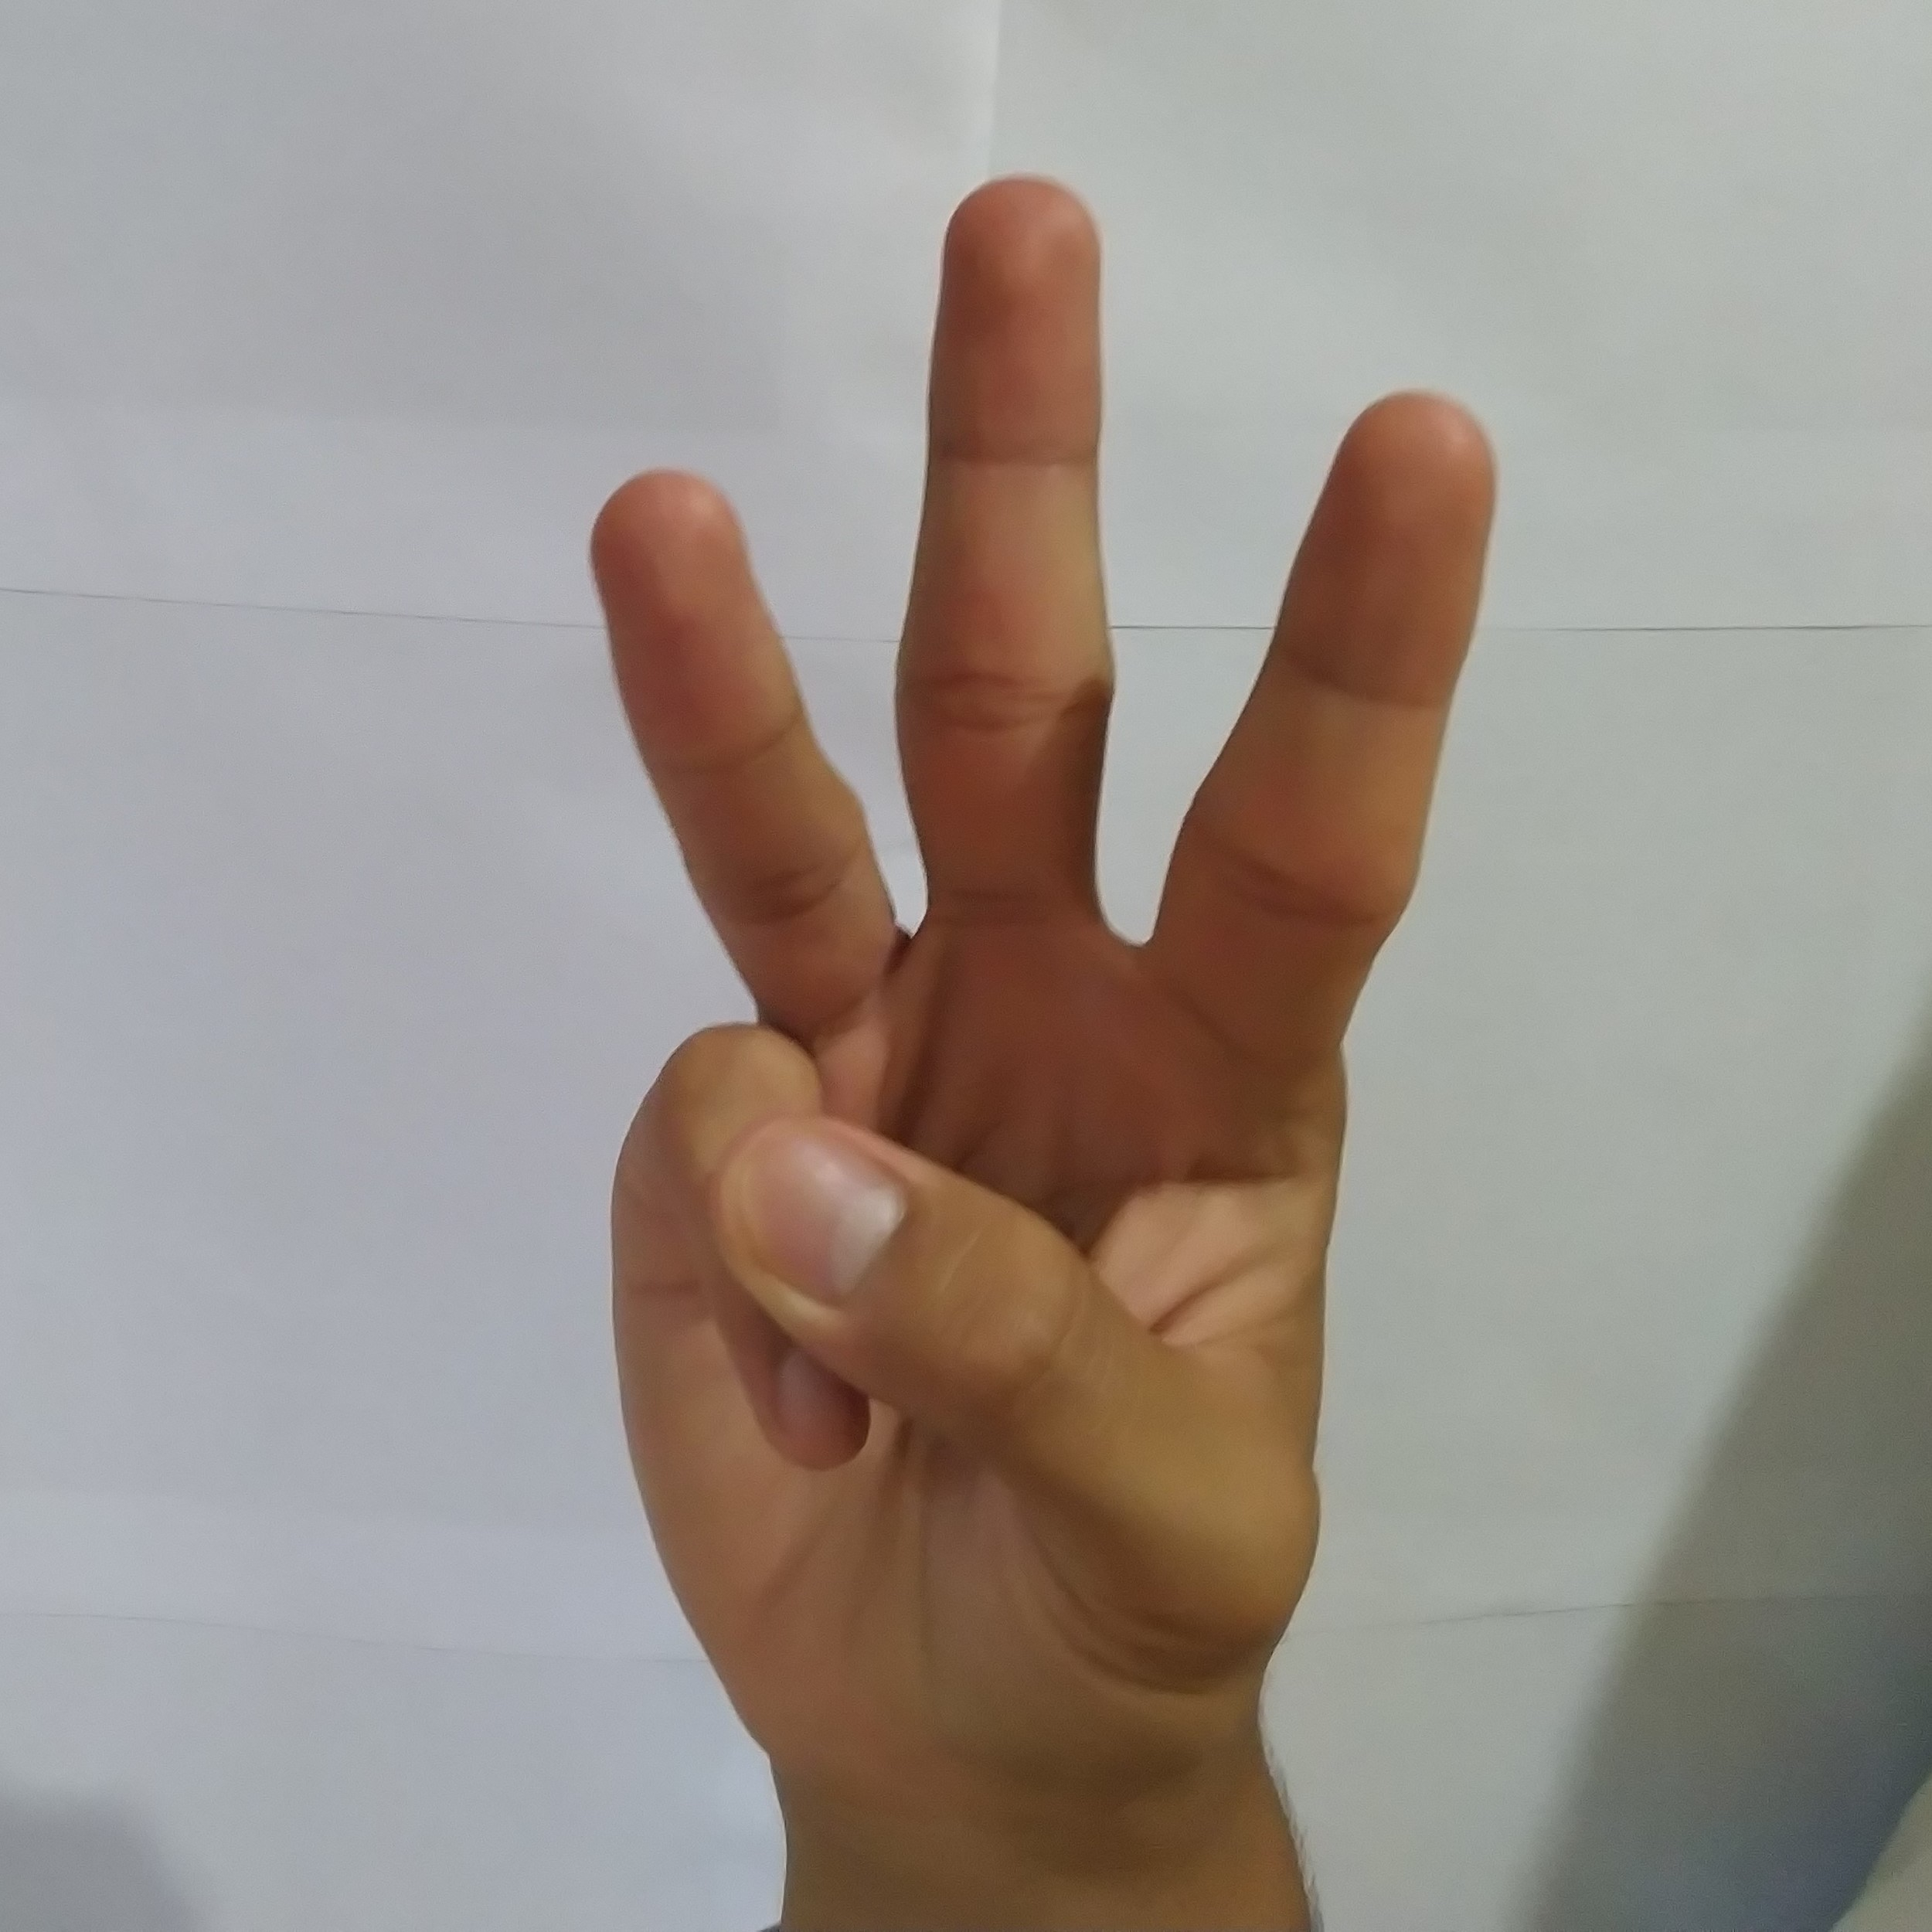W: (561, 145, 1532, 1798)
